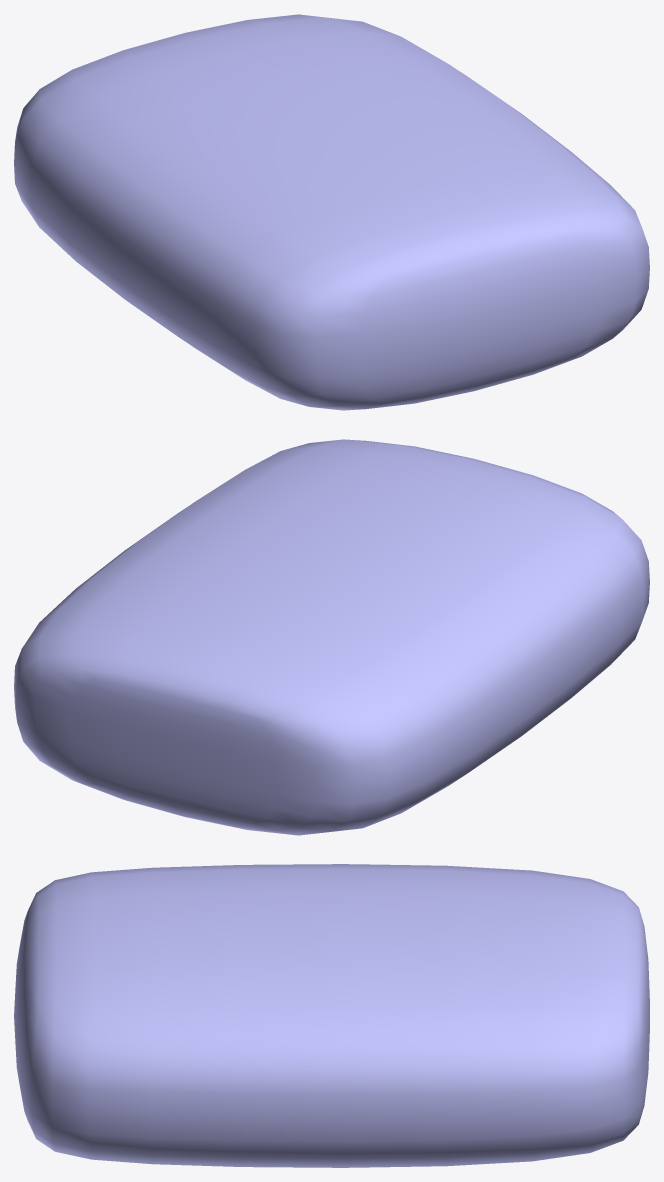
Rendered from Blue_Substance.fbx.
The picture shows the model from 3 angles, top to bottom: view 1: azimuth 30°, elevation 25°; view 2: azimuth 150°, elevation 25°; view 3: azimuth 270°, elevation 25°; orthographic projection.
Visible parts, largest first — view 1: Cube; view 2: Cube; view 3: Cube.
Boxes of the visible parts, x1,y1,x2,y2 form: Cube: [14, 14, 649, 410]; Cube: [14, 439, 649, 835]; Cube: [14, 864, 649, 1167].
Bounding box in the file's own units: 27.41 × 11.29 × 36.02.
